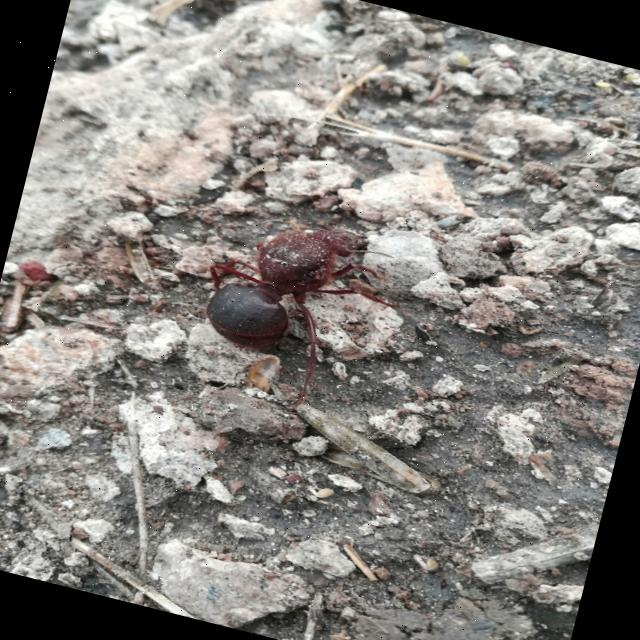Alive-Female-Dealate: (180, 199, 414, 426)
